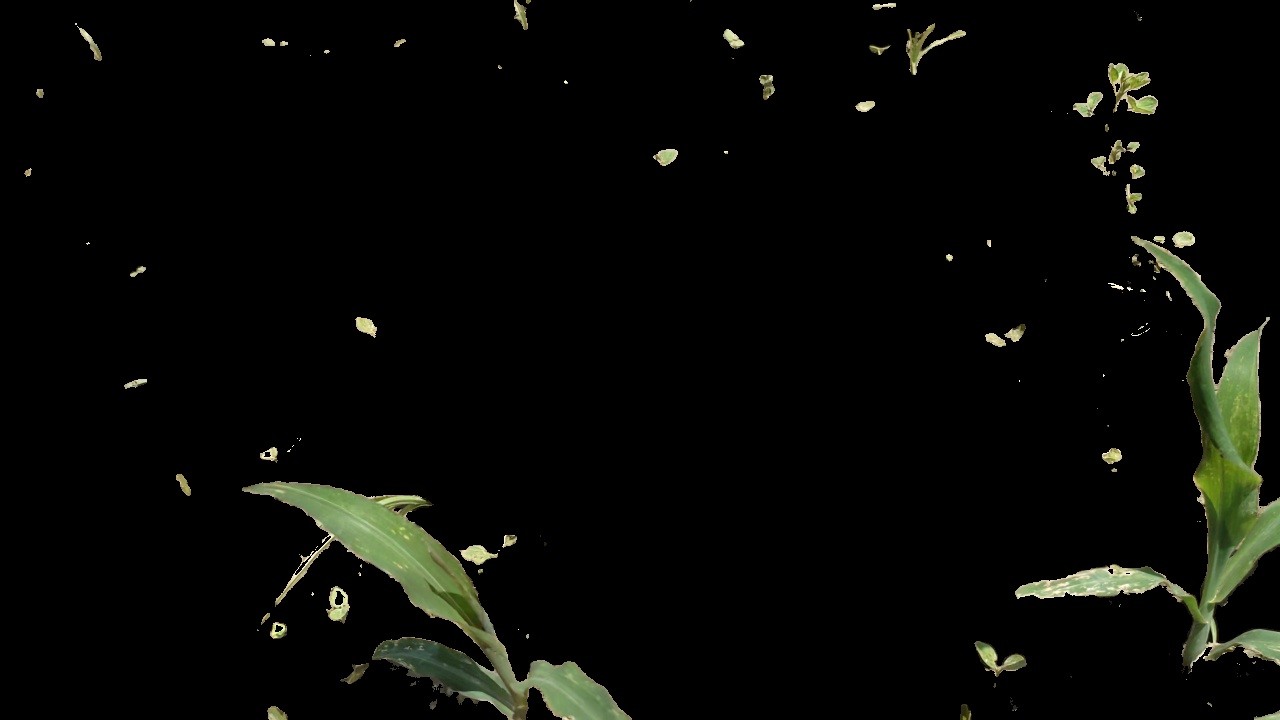crop: (242, 472, 648, 720), (1056, 239, 1280, 675)
weed: (1071, 45, 1163, 141), (891, 21, 961, 74), (966, 634, 1033, 682), (1086, 138, 1153, 184), (463, 527, 525, 565), (319, 581, 355, 625), (981, 325, 1030, 355), (1151, 228, 1196, 251)
